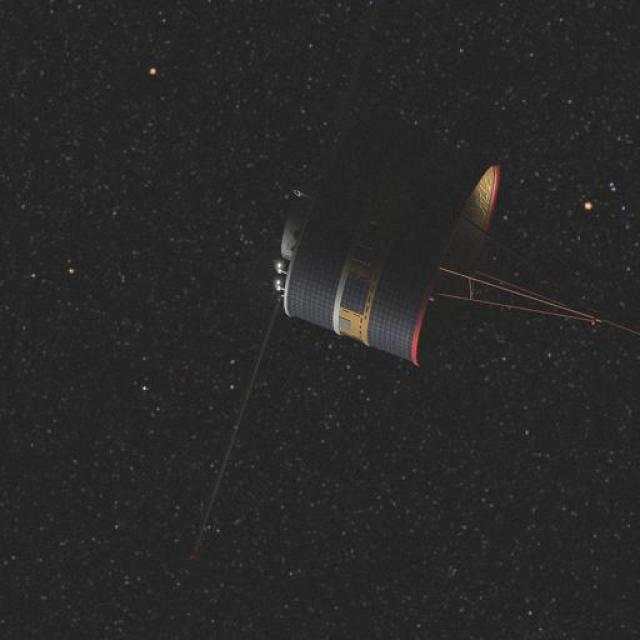double_start: (227, 108, 615, 367)
